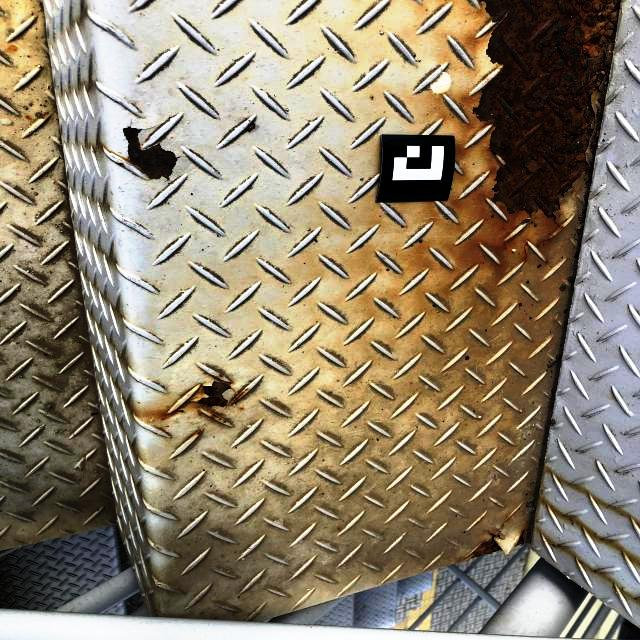Corrosion: (472, 0, 622, 227), (123, 127, 178, 180), (198, 381, 232, 407), (467, 532, 501, 558), (229, 387, 249, 404), (210, 413, 227, 423), (515, 529, 525, 546), (215, 373, 224, 379), (194, 429, 202, 435)
